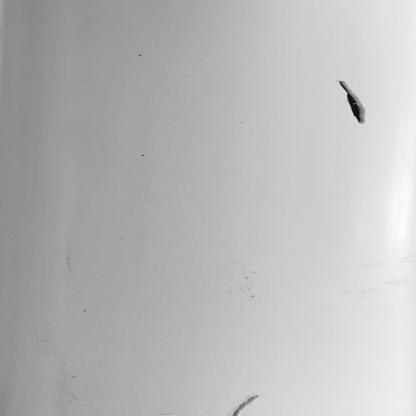fengxi: (229, 394, 261, 416)
kongdong: (338, 81, 369, 125)
